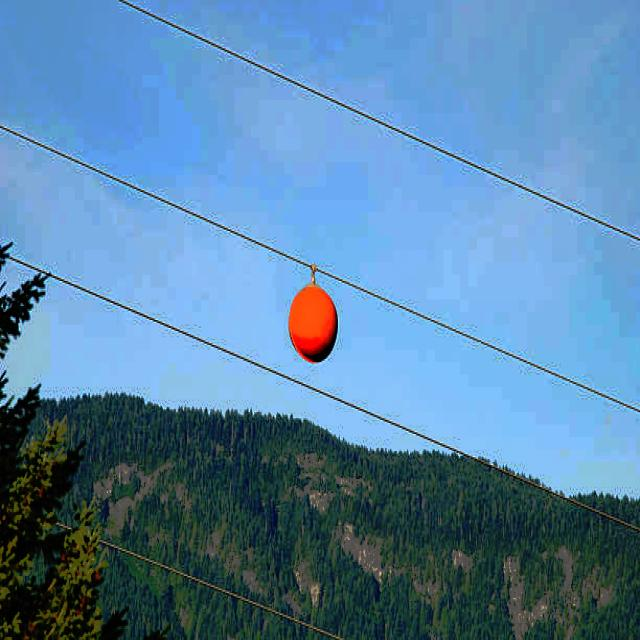wires: (229, 233, 637, 412), (2, 130, 302, 264), (265, 70, 495, 173), (108, 548, 320, 632), (287, 258, 371, 351), (133, 314, 245, 361), (359, 409, 456, 454), (282, 378, 338, 400)
